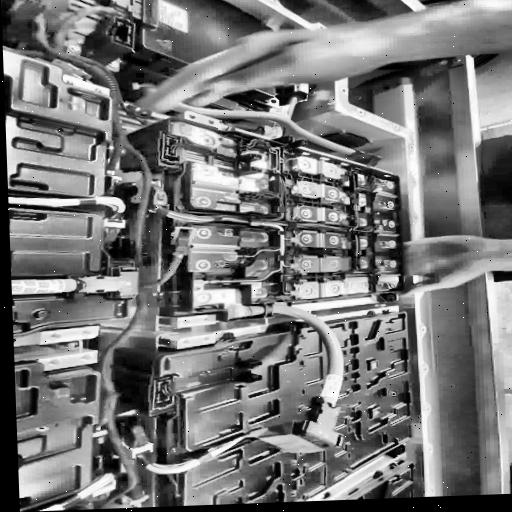high_volt_cable: (215, 292, 362, 466), (163, 103, 368, 162)
low_volt_cable: (164, 147, 372, 237), (7, 190, 139, 222)
